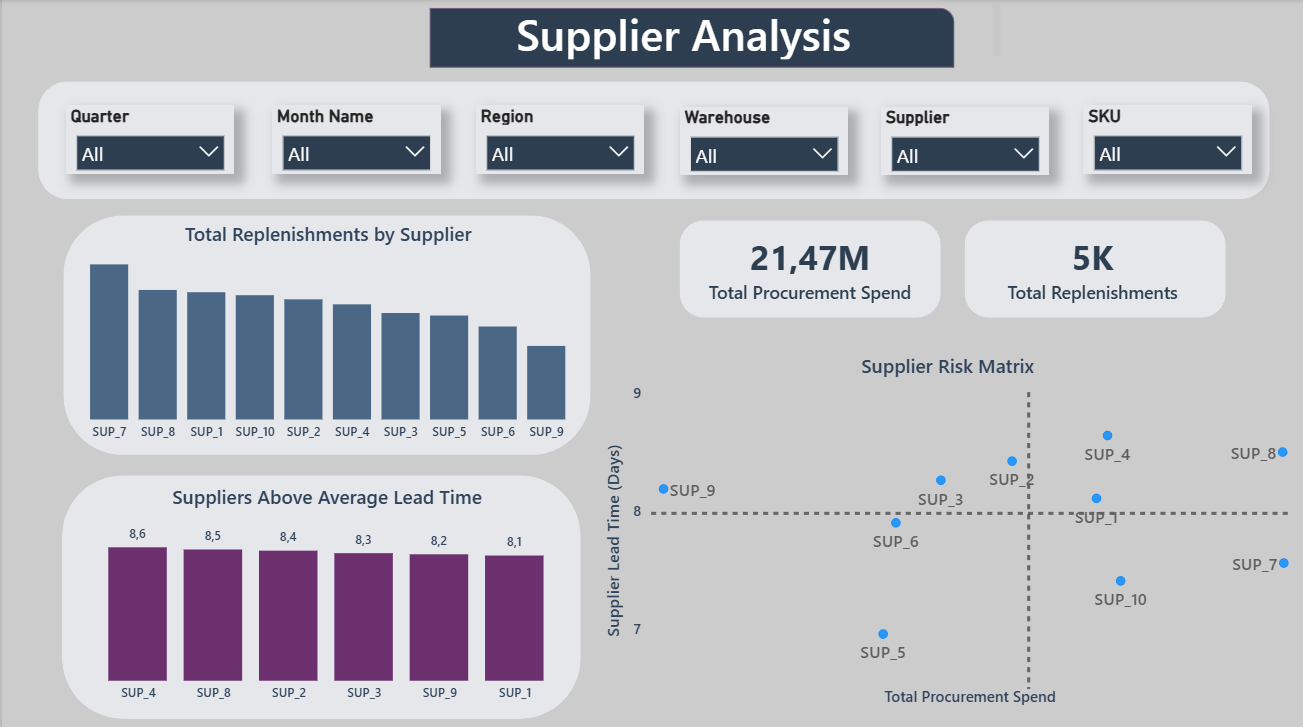

The page's visual inventory and layout, read from the dashboard file:
{"tool":"powerbi","page":{"name":"Supply Analysis","canvas":[1280,720],"ordinal":1},"visuals":[{"type":"shape","box":[58.9,467.5,509.2,239.3],"z":0},{"type":"shape","box":[60.1,212.3,517.8,235.6],"z":1000},{"type":"shape","box":[419.6,8.6,515.3,58.9],"z":2000},{"type":"textbox","box":[499.4,0,485.9,63.8],"z":3000},{"type":"shape","box":[35.6,81,1208.6,115.3],"z":4000},{"type":"slicer","title":"Month Name ","fields":{"Values":["date_table.Month Name"]},"box":[265,104.3,165.6,67.5],"z":5000},{"type":"slicer","title":"Quarter","fields":{"Values":["date_table.Quarter & Year"]},"box":[62.6,104.3,165.6,67.5],"z":6000},{"type":"slicer","title":"Region","fields":{"Values":["supply_chain.region"]},"box":[465,104.3,165.6,67.5],"z":7000},{"type":"slicer","title":"Warehouse","fields":{"Values":["supply_chain.warehouse_id"]},"box":[665,105.5,165.6,67.5],"z":8000},{"type":"slicer","title":"Supplier","fields":{"Values":["supply_chain.supplier_id"]},"box":[862.6,105.5,165.6,67.5],"z":9000},{"type":"slicer","title":"SKU","fields":{"Values":["supply_chain.sku_id"]},"box":[1061.4,104.3,165.6,67.5],"z":10000},{"type":"shape","box":[944.8,217.2,256.4,95.7],"z":11000},{"type":"shape","box":[665,217.2,256.4,95.7],"z":12000},{"type":"cardVisual","fields":{"Data":["Measure_Table.Total Replenishments"]},"box":[935,189,271.2,150.9],"z":13000},{"type":"cardVisual","fields":{"Data":["Measure_Table.Total Procurement Spend"]},"box":[657.7,189,271.2,150.9],"z":14000},{"type":"clusteredColumnChart","title":"Suppliers Above Average Lead Time ","fields":{"Category":["supply_chain.supplier_id"],"Y":["Measure_Table.Supplier Lead Time (Days)"]},"box":[69.9,476.1,498.2,223.3],"z":15000},{"type":"clusteredColumnChart","title":"Total Replenishments by Supplier","fields":{"Category":["supply_chain.supplier_id"],"Y":["Measure_Table.Total Replenishments"]},"box":[62.6,217.2,515.3,225.8],"z":16000},{"type":"scatterChart","title":"Supplier Risk Matrix","fields":{"Category":["supply_chain.supplier_id"],"X":["Measure_Table.Total Procurement Spend"],"Y":["Measure_Table.Supplier Lead Time (Days)"]},"box":[587.7,347.2,681,352.1],"z":17000}]}

Visuals, with their boxes in screenshot pixels (x1, y1, x2, y2), scaled from the page's 1280x720 canvas onto the 1303x727 screenshot:
shape: 60/472/578/714
shape: 61/214/588/452
shape: 427/9/952/68
textbox: 508/0/1003/64
shape: 36/82/1267/198
"Month Name " slicer: 270/105/438/173
"Quarter" slicer: 64/105/232/173
"Region" slicer: 473/105/642/173
"Warehouse" slicer: 677/107/846/175
"Supplier" slicer: 878/107/1047/175
"SKU" slicer: 1080/105/1249/173
shape: 962/219/1223/316
shape: 677/219/938/316
cardVisual - Measure_Table.Total Replenishments: 952/191/1228/343
cardVisual - Measure_Table.Total Procurement Spend: 670/191/946/343
"Suppliers Above Average Lead Time " clusteredColumnChart: 71/481/578/706
"Total Replenishments by Supplier" clusteredColumnChart: 64/219/588/447
"Supplier Risk Matrix" scatterChart: 598/351/1291/706
